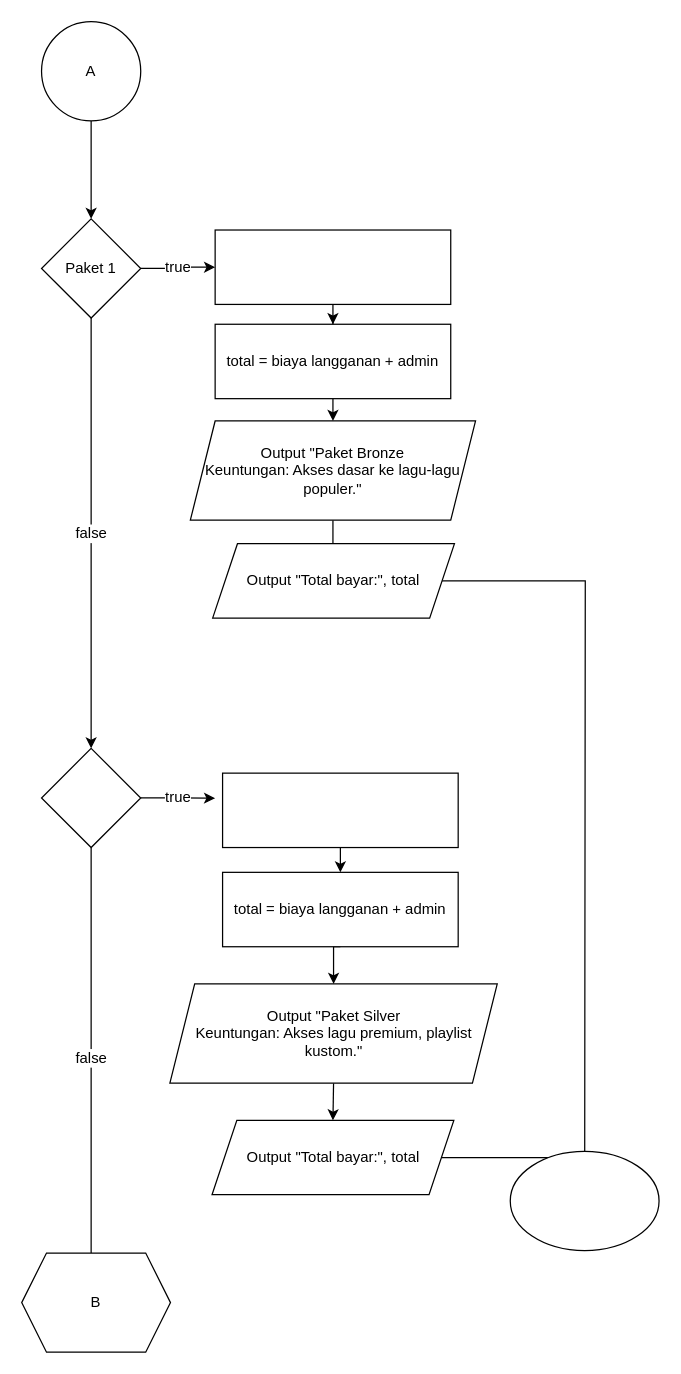
Some shapes in this 681 by 1374 pixel diagram are drawn without their labels. The shapes that lost their labels are listed below. From the top down, each one's centre as x and y in pixels, then its label:
At point (332, 266): "admin = biaya langganan * 0.01".
At point (90, 797): "Paket 2".
At point (339, 810): "admin = biaya langganan * 0.03".
At point (584, 1200): "END".
